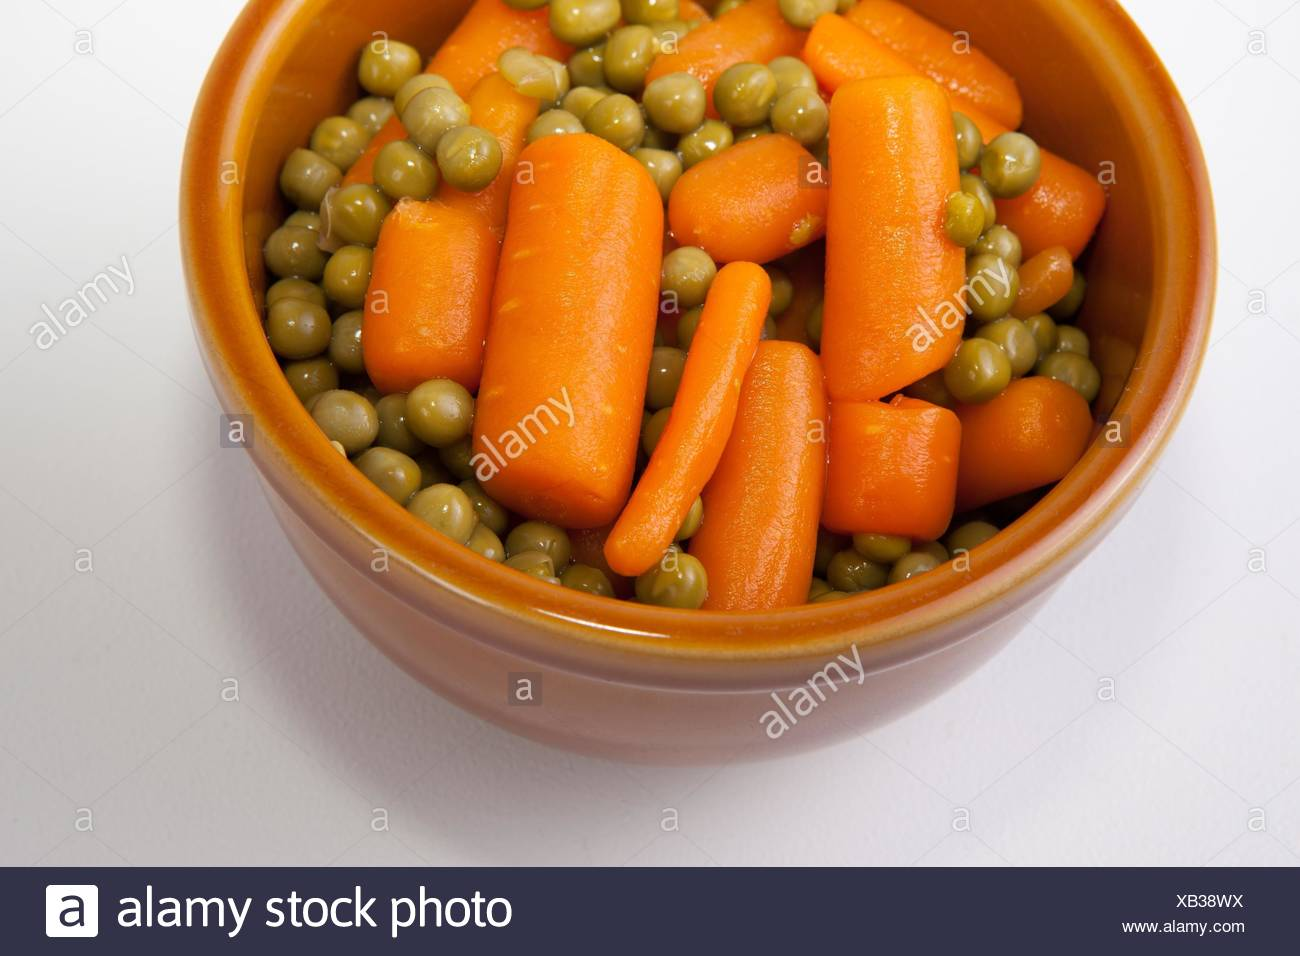boiled peas: (304, 1, 1086, 563)
